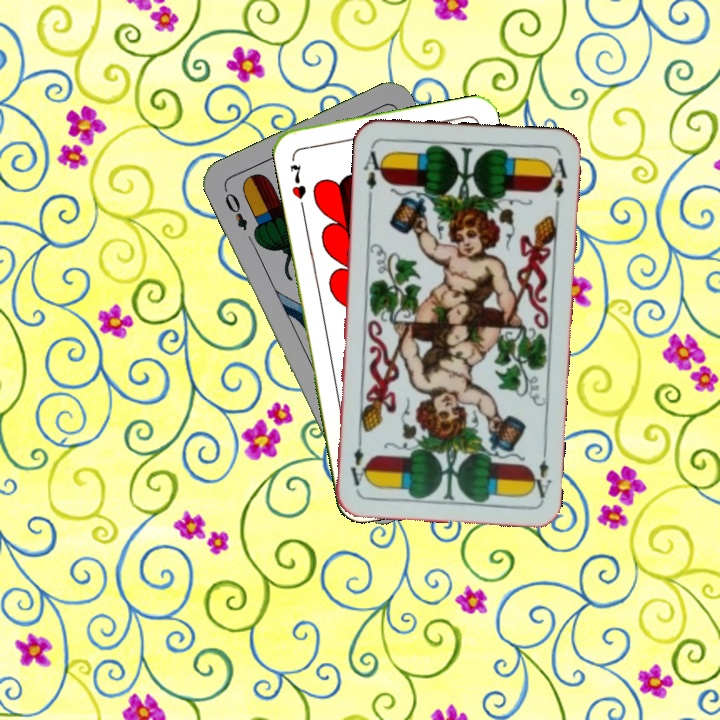EA: (359, 143, 387, 202), (527, 443, 554, 502)
EO: (220, 184, 250, 233)
H7: (286, 160, 309, 201)
